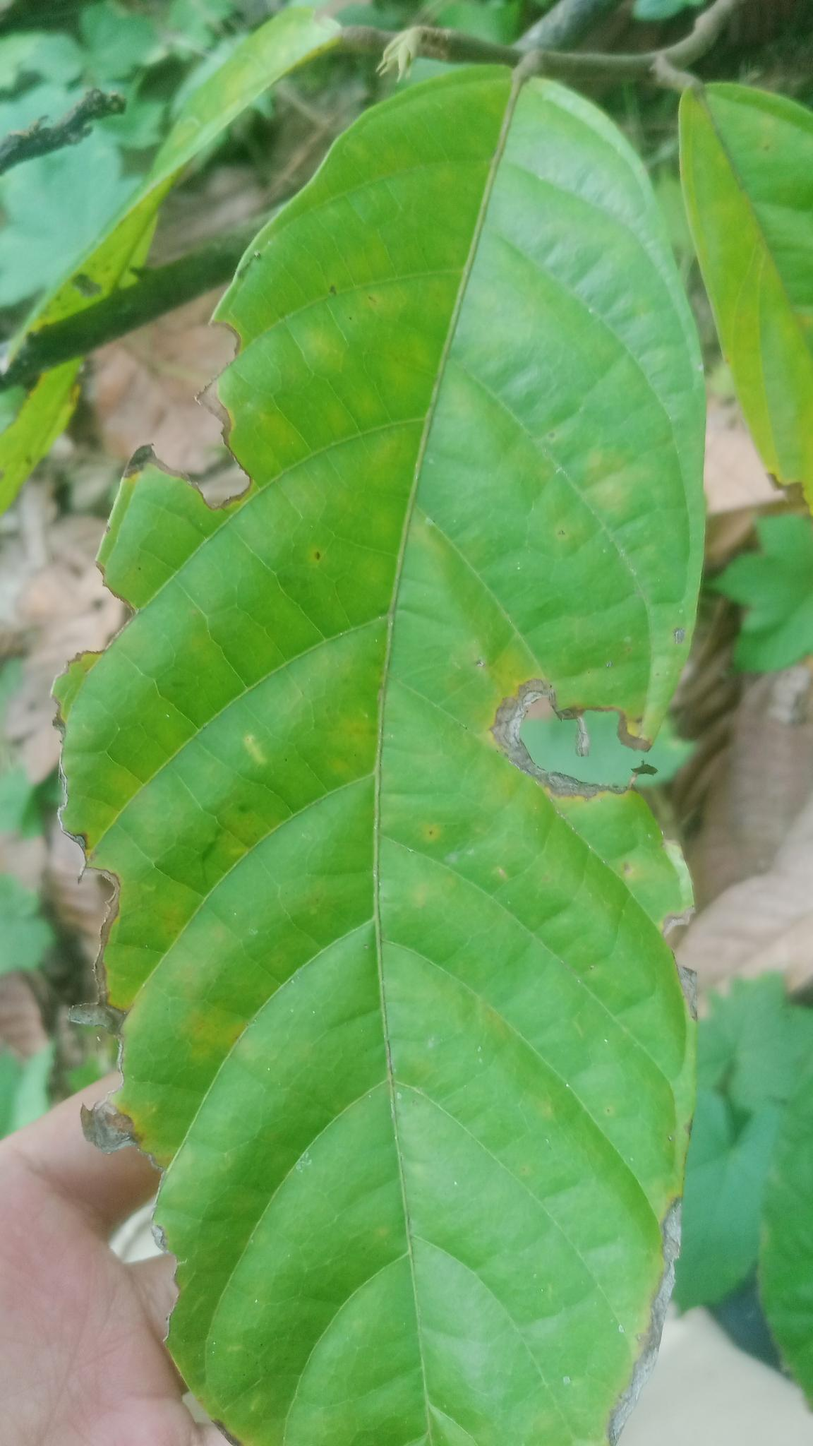Potasio: (64, 72, 711, 1446)
